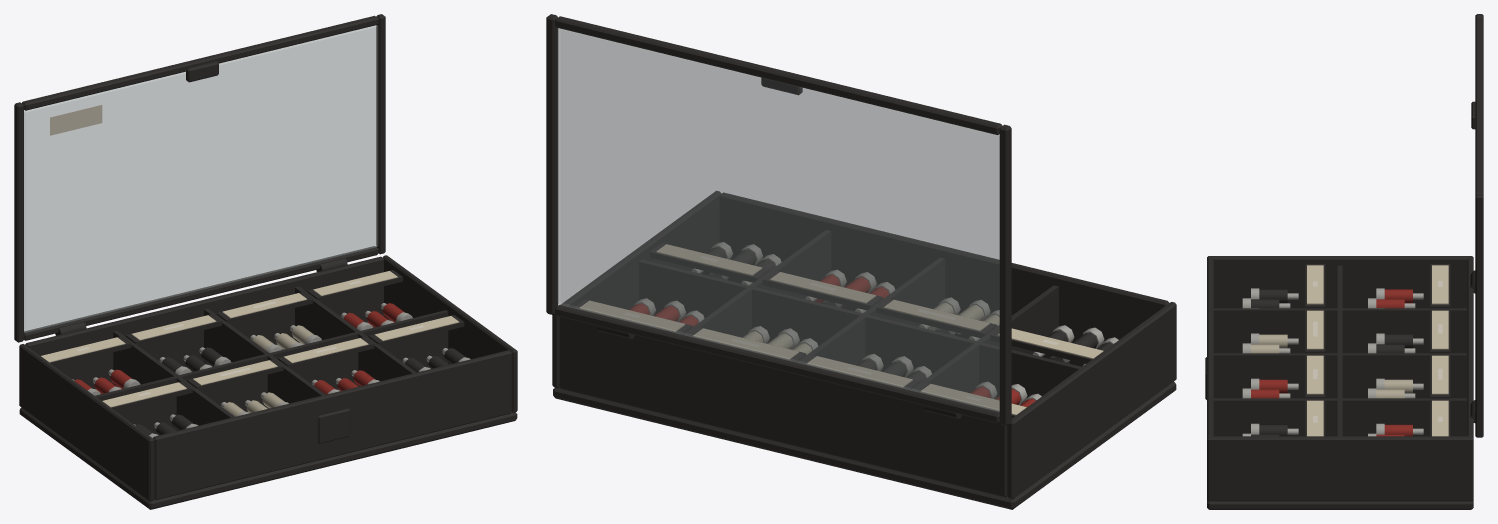
File: adapter-organizer-0855c63e1814.glb
3 renders of one model, left to right at view 1: azimuth 30°, elevation 25°; view 2: azimuth 150°, elevation 25°; view 3: azimuth 270°, elevation 25°, orthographic. The views are drawn at different scales.
Visible parts, largest first — view 1: plastic-dark, glass-clear, paper, brushed, enamel-red, plastic-light, decal-print; view 2: plastic-dark, glass-clear, paper, brushed, enamel-red, plastic-light; view 3: plastic-dark, paper, brushed, enamel-red, plastic-light, decal-ink.
Part boxes in pixels (x1,y1,x2,y2): plastic-dark: [14, 14, 517, 509]; glass-clear: [24, 25, 378, 332]; paper: [41, 271, 459, 407]; brushed: [72, 303, 470, 437]; enamel-red: [74, 303, 404, 394]; plastic-light: [223, 325, 313, 416]; decal-print: [50, 105, 102, 135]; plastic-dark: [546, 14, 1176, 509]; glass-clear: [557, 28, 999, 411]; paper: [579, 244, 1103, 415]; brushed: [634, 242, 1118, 405]; enamel-red: [629, 275, 1035, 406]; plastic-light: [743, 302, 999, 354]; plastic-dark: [1205, 14, 1483, 509]; paper: [1307, 265, 1448, 436]; brushed: [1242, 288, 1423, 436]; enamel-red: [1251, 289, 1412, 436]; plastic-light: [1251, 334, 1412, 398]; decal-ink: [1313, 281, 1442, 422].
Bounding box in the file's own units: 0.26 × 0.208 × 0.167.
